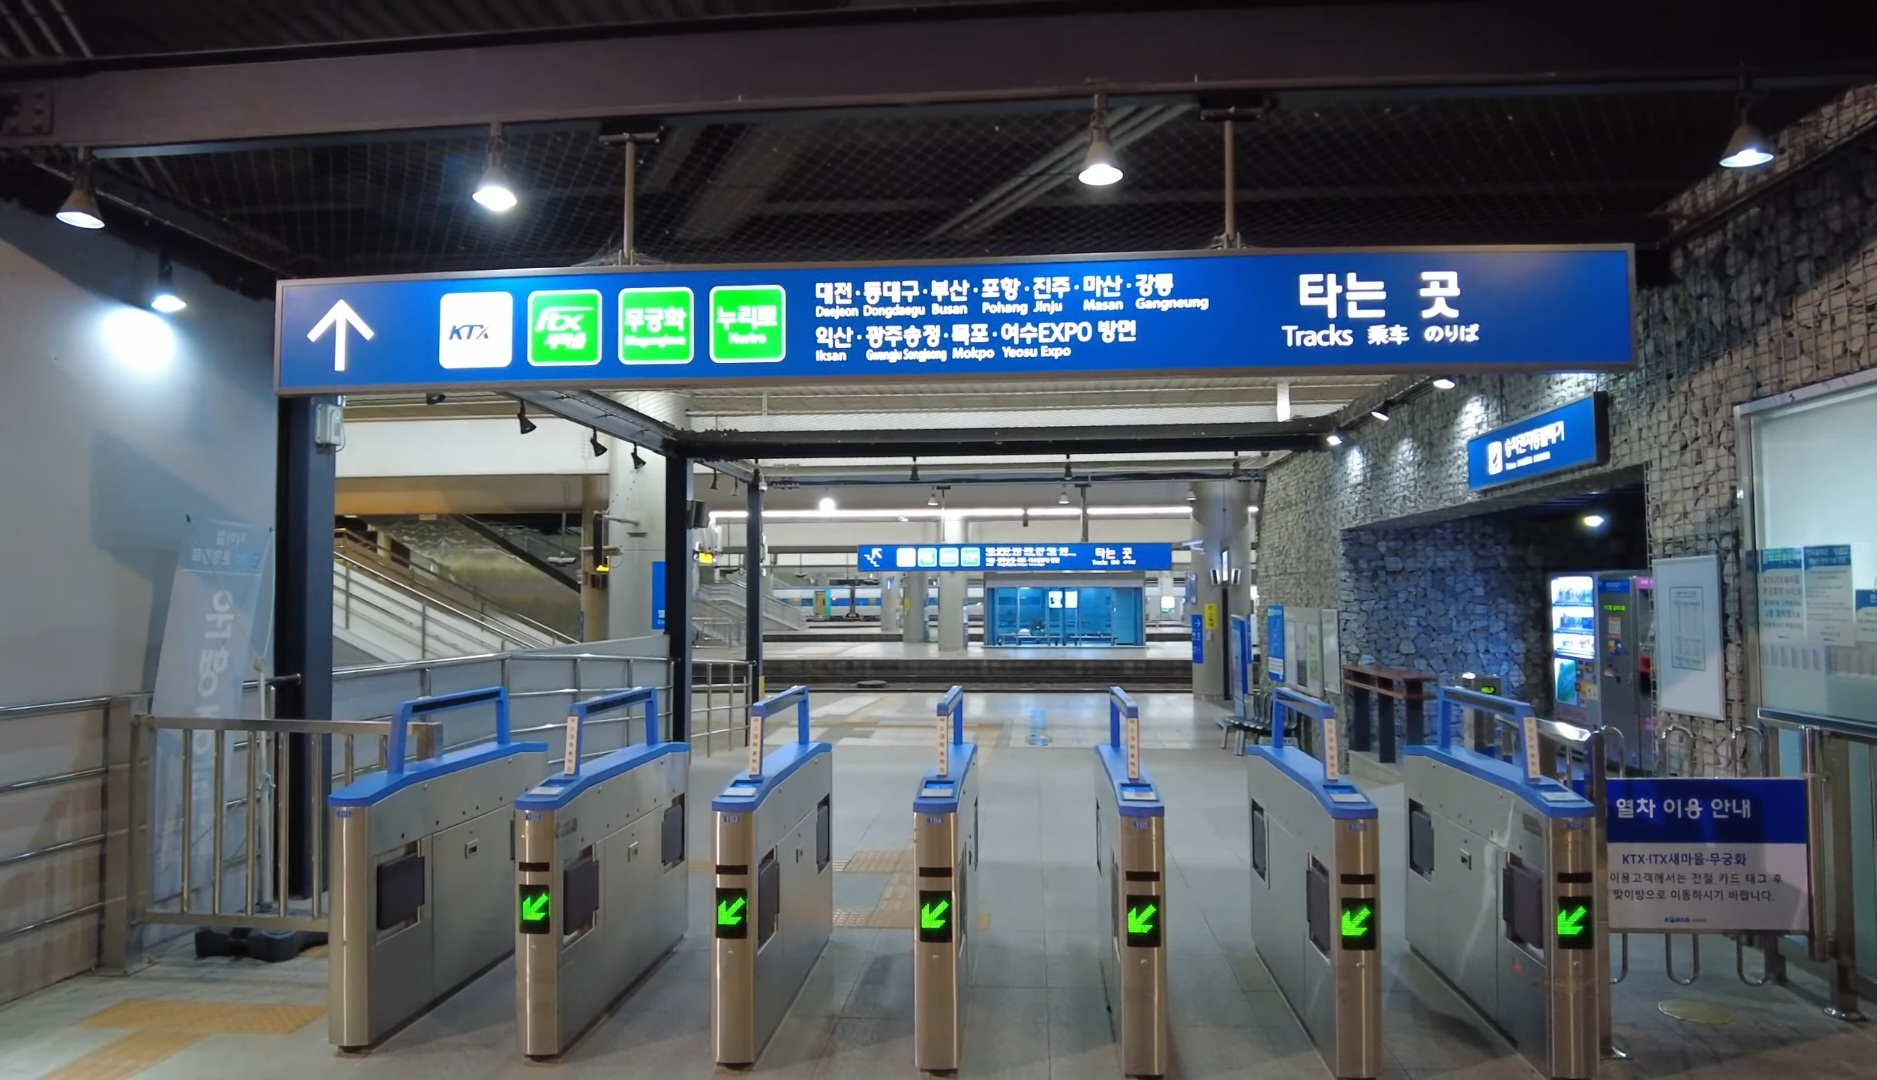signBoard: (276, 235, 1651, 396)
